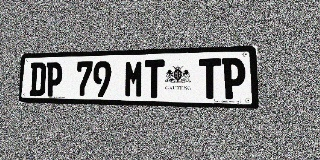7: (75, 61, 93, 97)
9: (93, 61, 111, 97)
D: (29, 62, 46, 96)
M: (124, 60, 144, 98)
P: (222, 58, 246, 99), (45, 62, 63, 96)
T: (199, 58, 221, 99), (144, 60, 164, 98)
